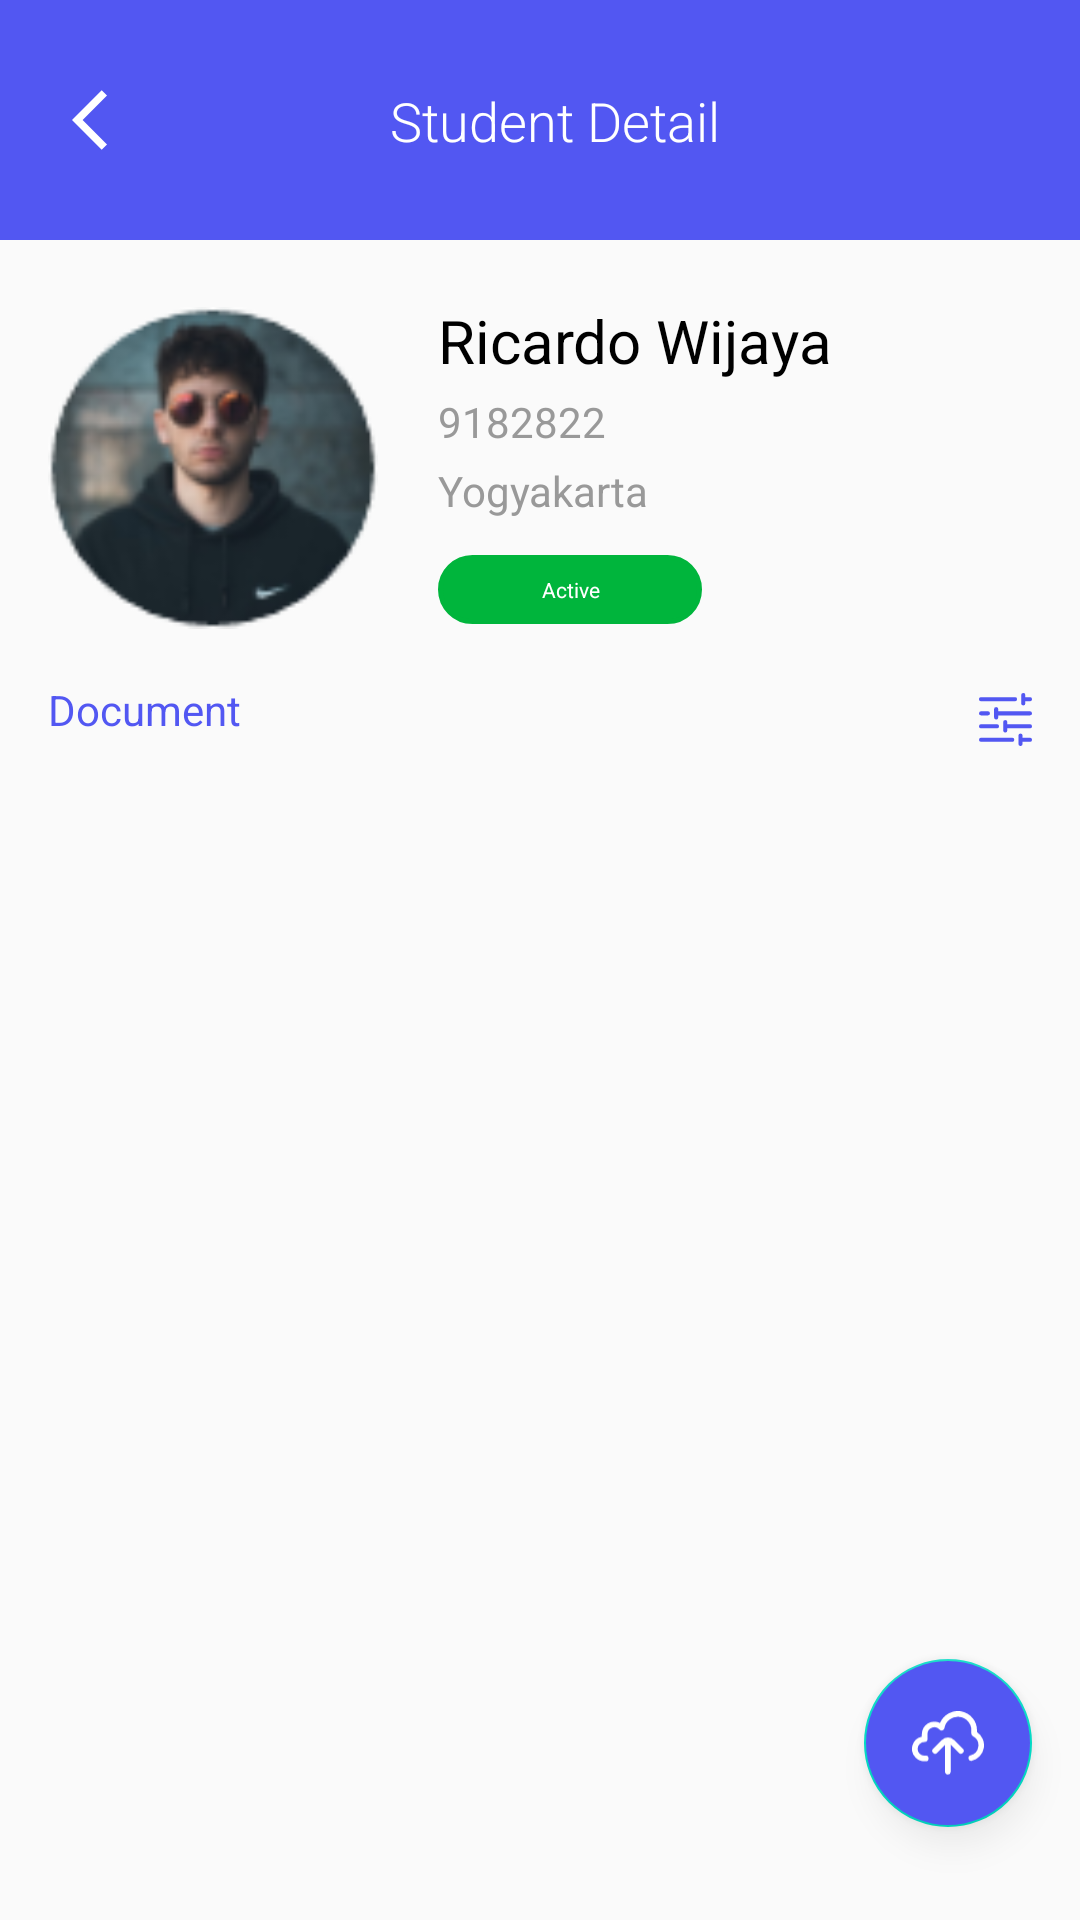

Icons on this 1080px×1920px Android screen, each with its box as BBox(x1, y1, x2, y2):
back: BBox(72, 90, 107, 150)
filter: BBox(979, 693, 1032, 746)
profile: BBox(50, 309, 376, 627)
upload: BBox(864, 1659, 1032, 1827)
